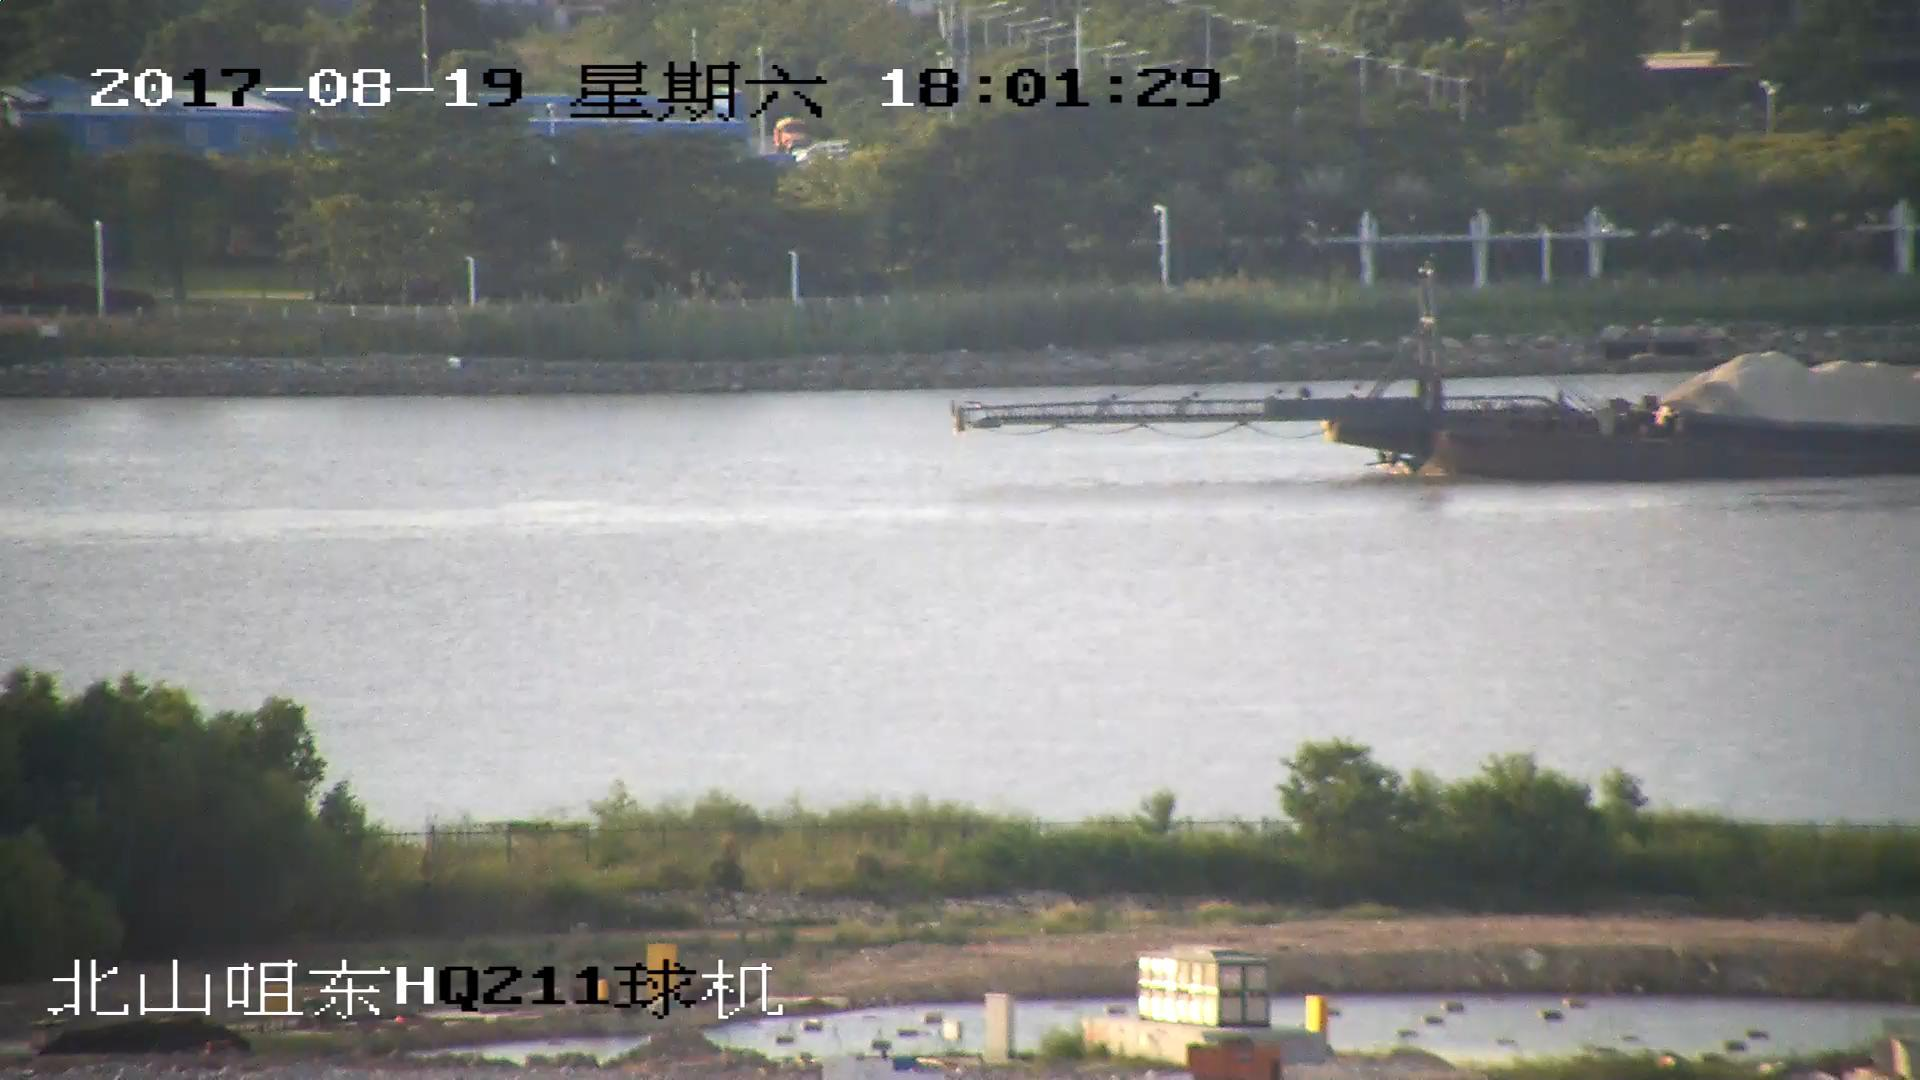Ship: (948, 272, 1920, 487)
